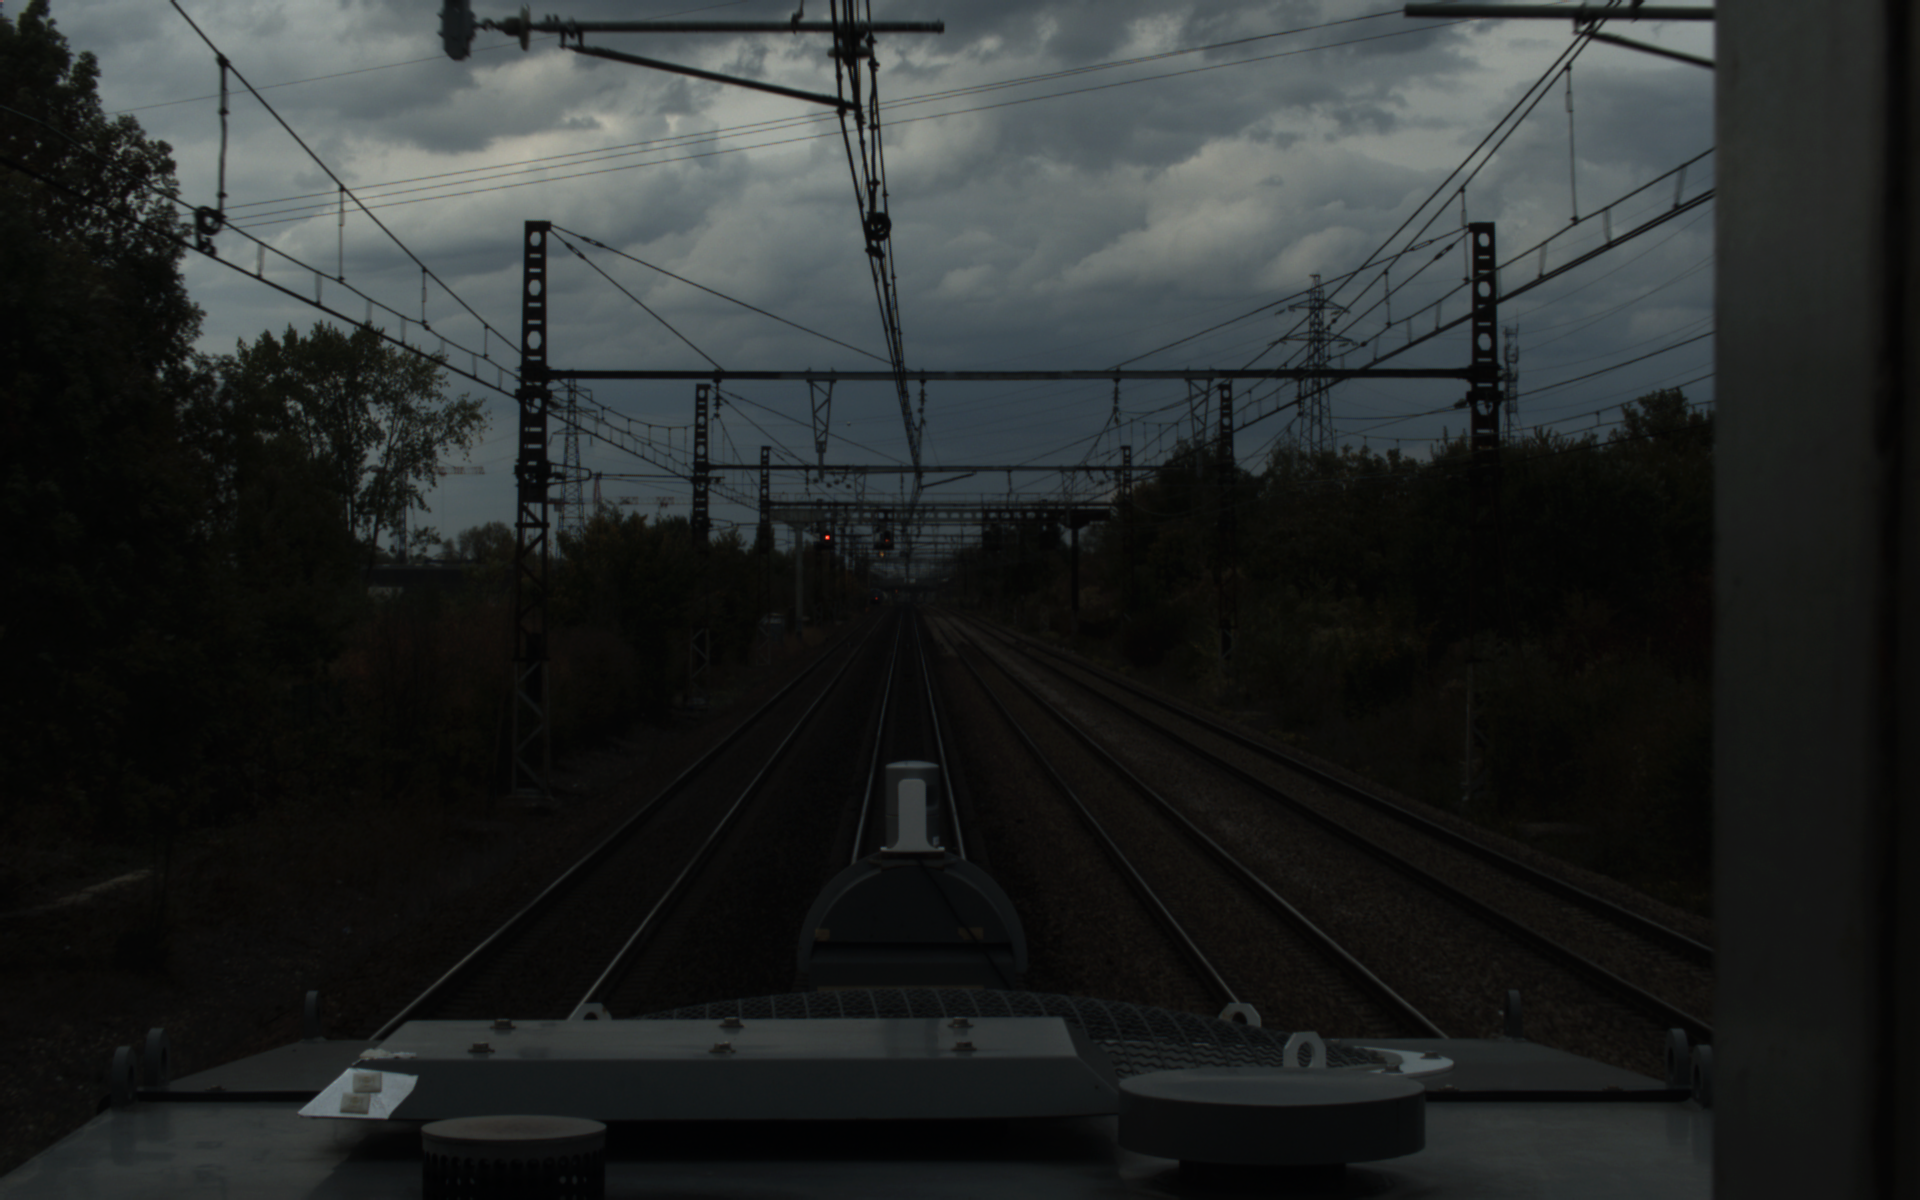Blinking: (881, 528, 893, 546)
Fixed: (818, 527, 834, 547)
